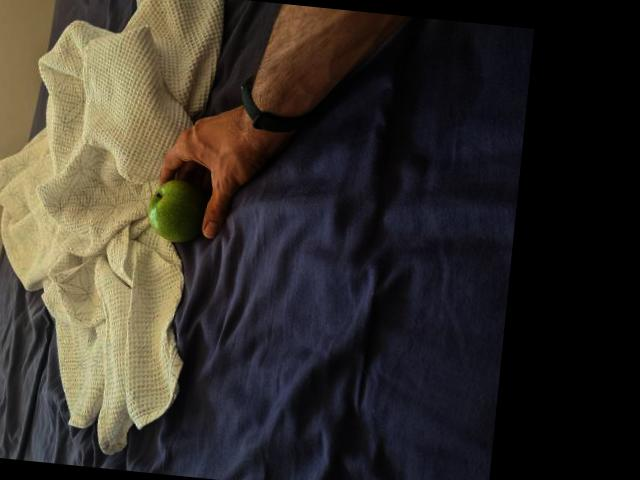apple: (144, 178, 216, 249)
